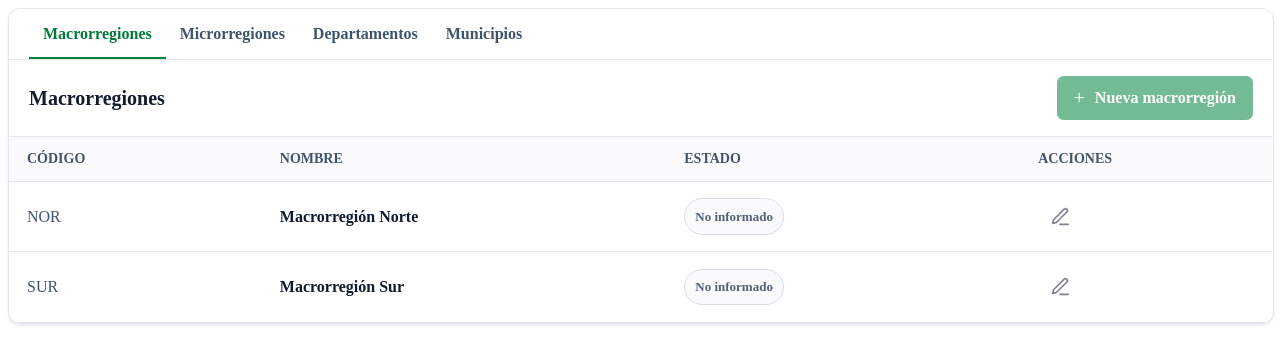
Test: GeographyHierarchy › muestra vacío cuando no existen hijos del padre seleccionado
The image size is (1280, 343).
Click the button "Macrorregión Norte".
click(349, 216)  # box [280,202,418,232]
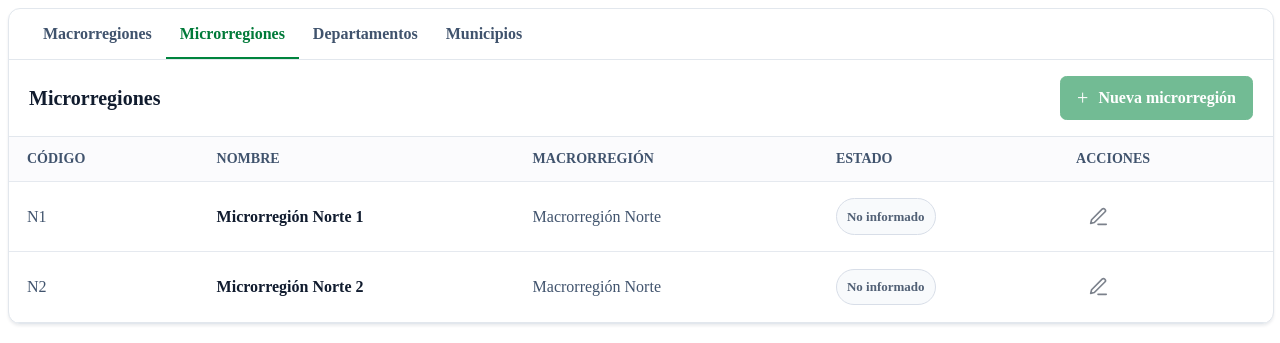
Click the button "Microrregión Norte 1".
click(290, 216)  # box [217,202,364,232]
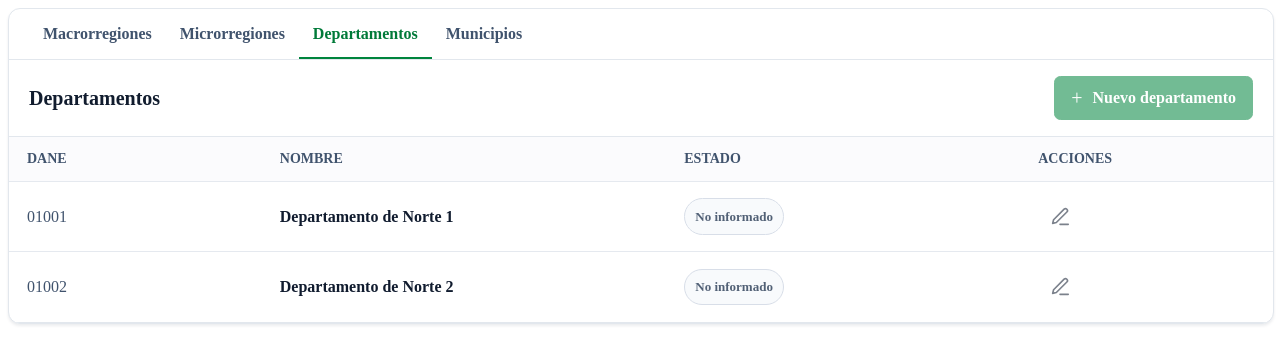
Click the button "Departamento de Norte 1".
click(367, 216)  # box [280,202,454,232]
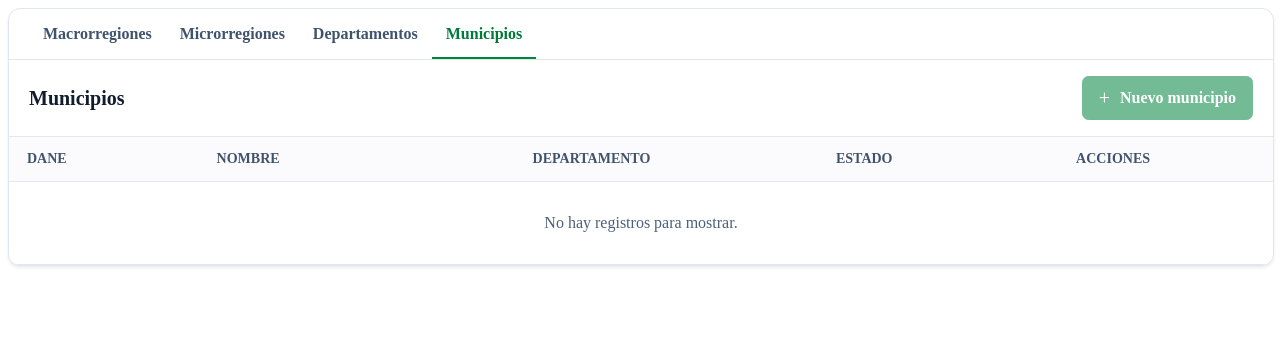
Now the text "No hay registros para mostrar." is shown, box [9,182,1273,264]
